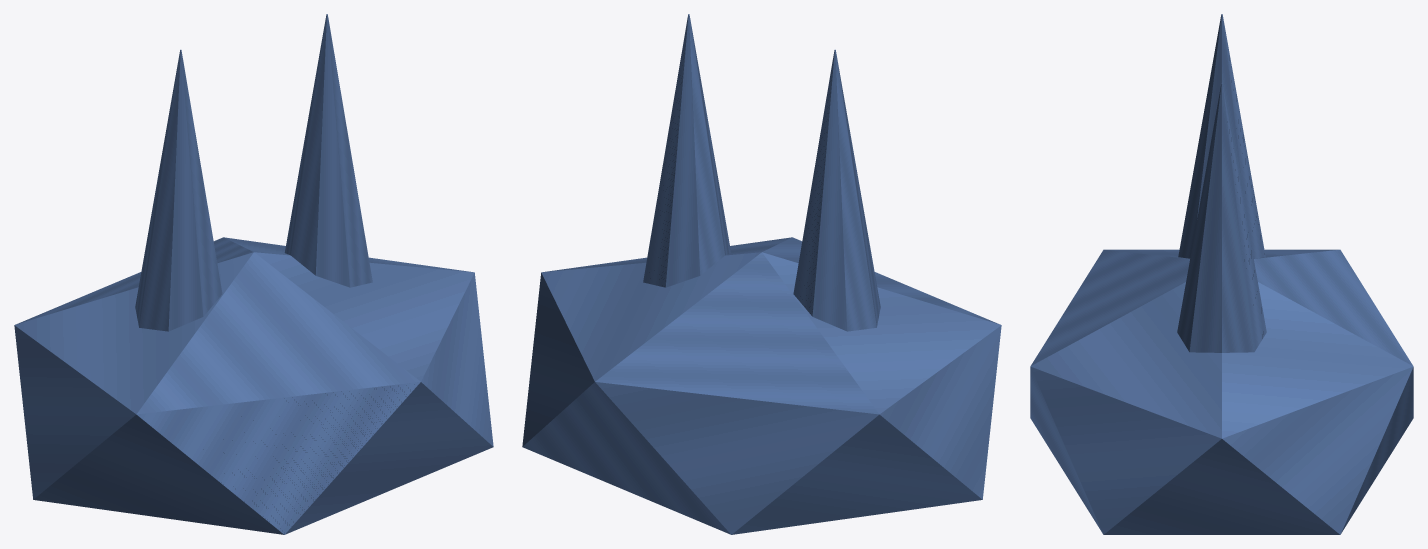
File: ricochet_precision.glb
The picture shows the model from 3 angles, left to right: view 1: azimuth 30°, elevation 25°; view 2: azimuth 150°, elevation 25°; view 3: azimuth 270°, elevation 25°; orthographic projection. The views are drawn at different scales.
Parts seen in each view (by area): view 1: gear_ricochet_precision; view 2: gear_ricochet_precision; view 3: gear_ricochet_precision.
Boxes of the visible parts, bbox=[...] form: gear_ricochet_precision: bbox=[14, 14, 493, 534]; gear_ricochet_precision: bbox=[522, 14, 1001, 534]; gear_ricochet_precision: bbox=[1030, 14, 1413, 534].
Bounding box in the file's own units: 0.483 × 0.51 × 0.3743.
Materials: 1 (1 with a texture image).
